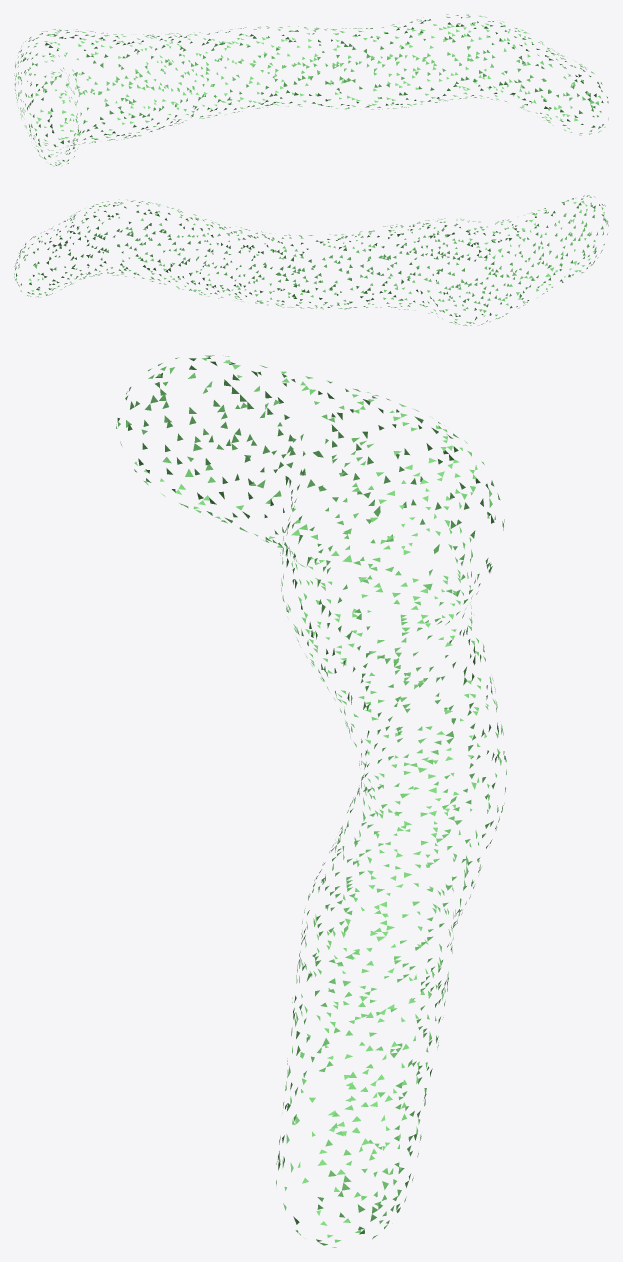
The model's file is morph_017.glb.
3 renders of one model, top to bottom at view 1: azimuth 30°, elevation 25°; view 2: azimuth 150°, elevation 25°; view 3: azimuth 270°, elevation 25°, orthographic. The views are drawn at different scales.
Size of the model in its own units: 110 by 38.09 by 34.29.
